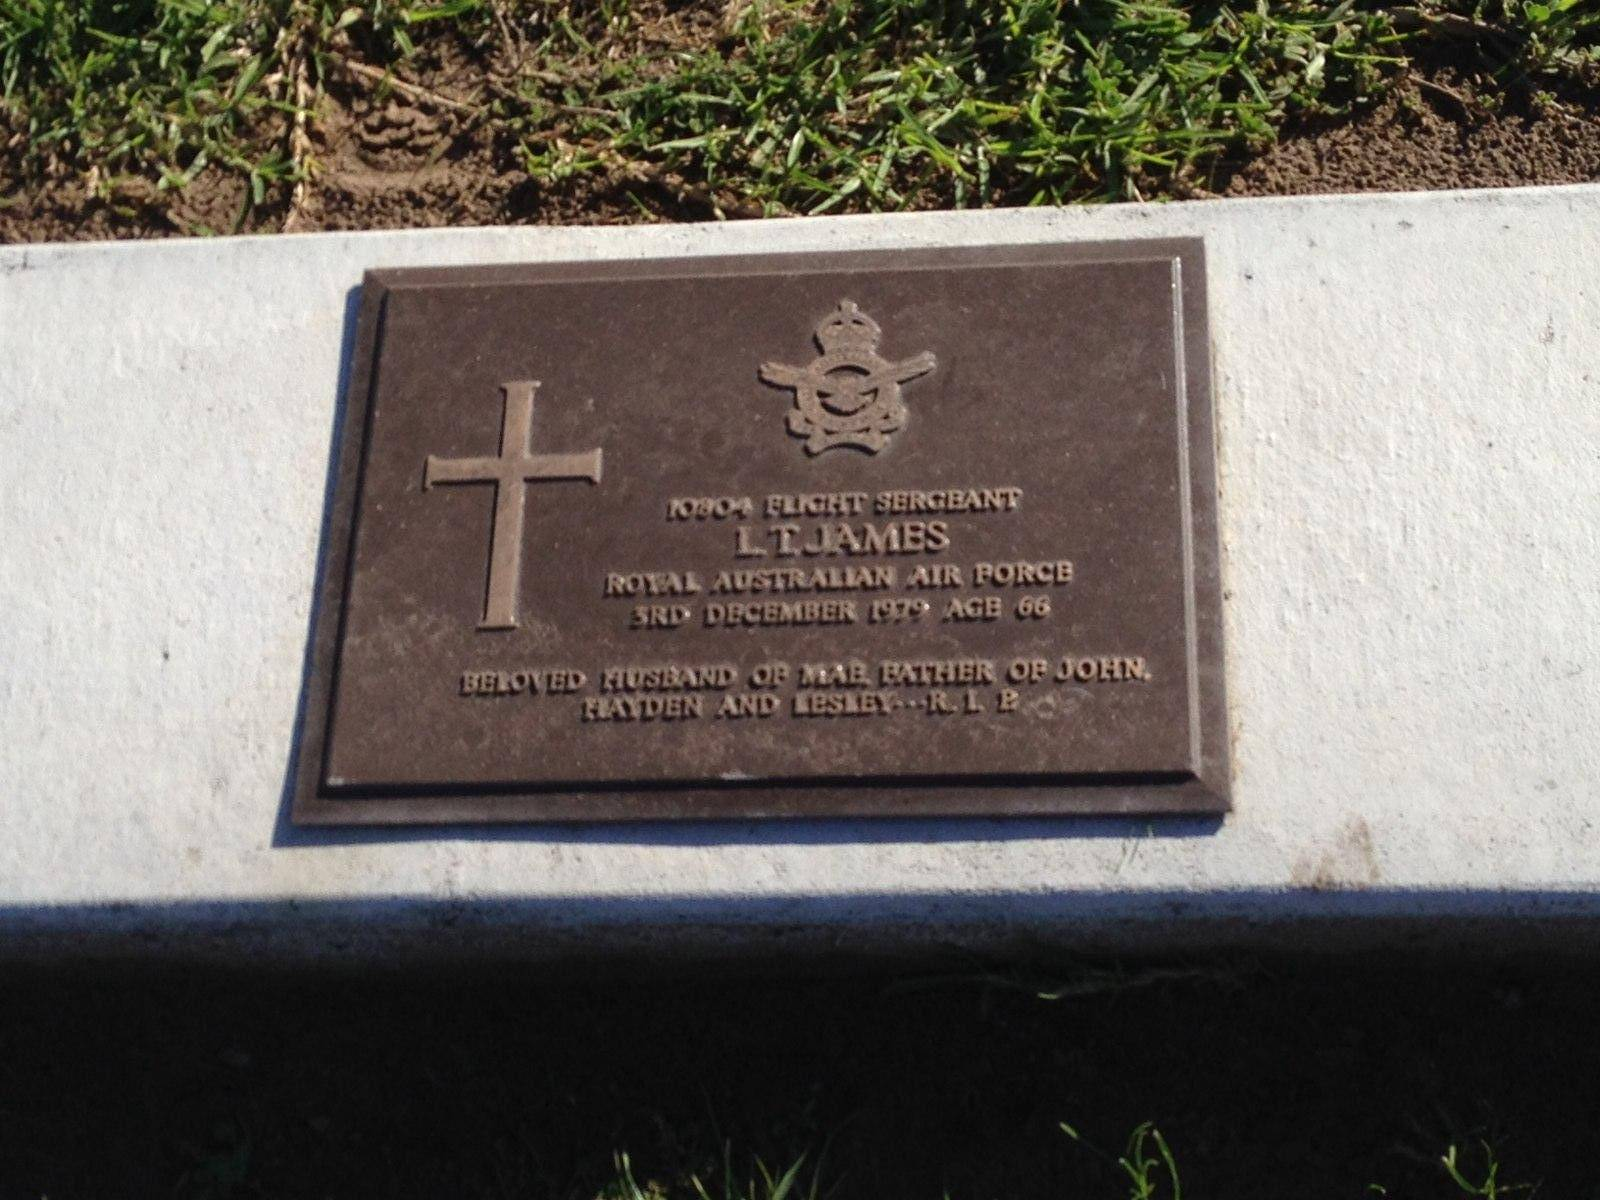plaque: (282, 233, 1237, 846)
